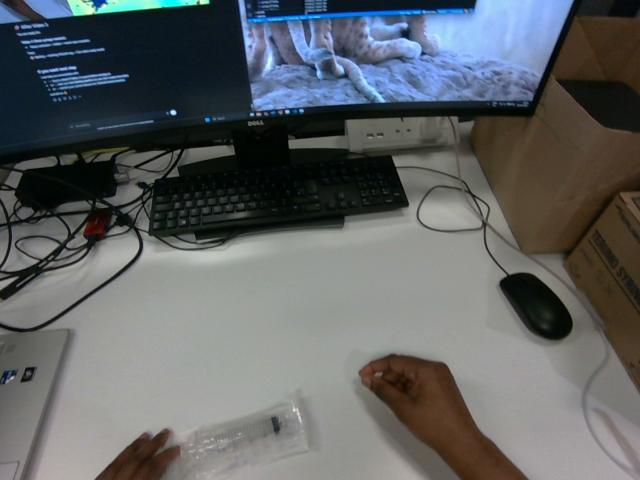syringe: (176, 400, 308, 479)
